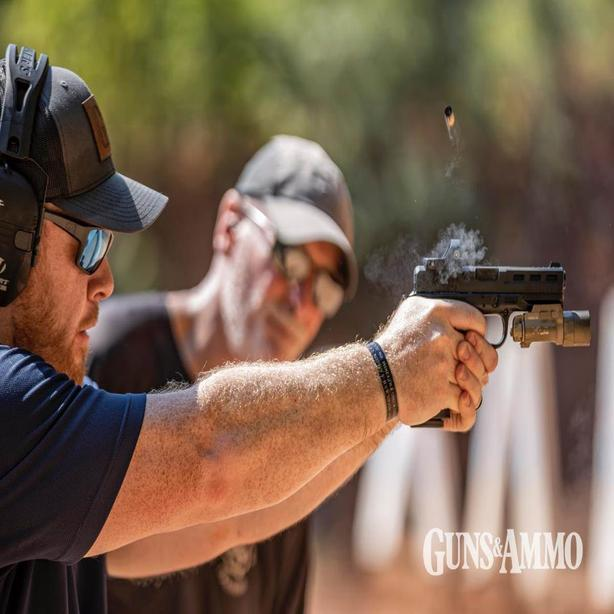Firearm: (400, 232, 604, 456)
